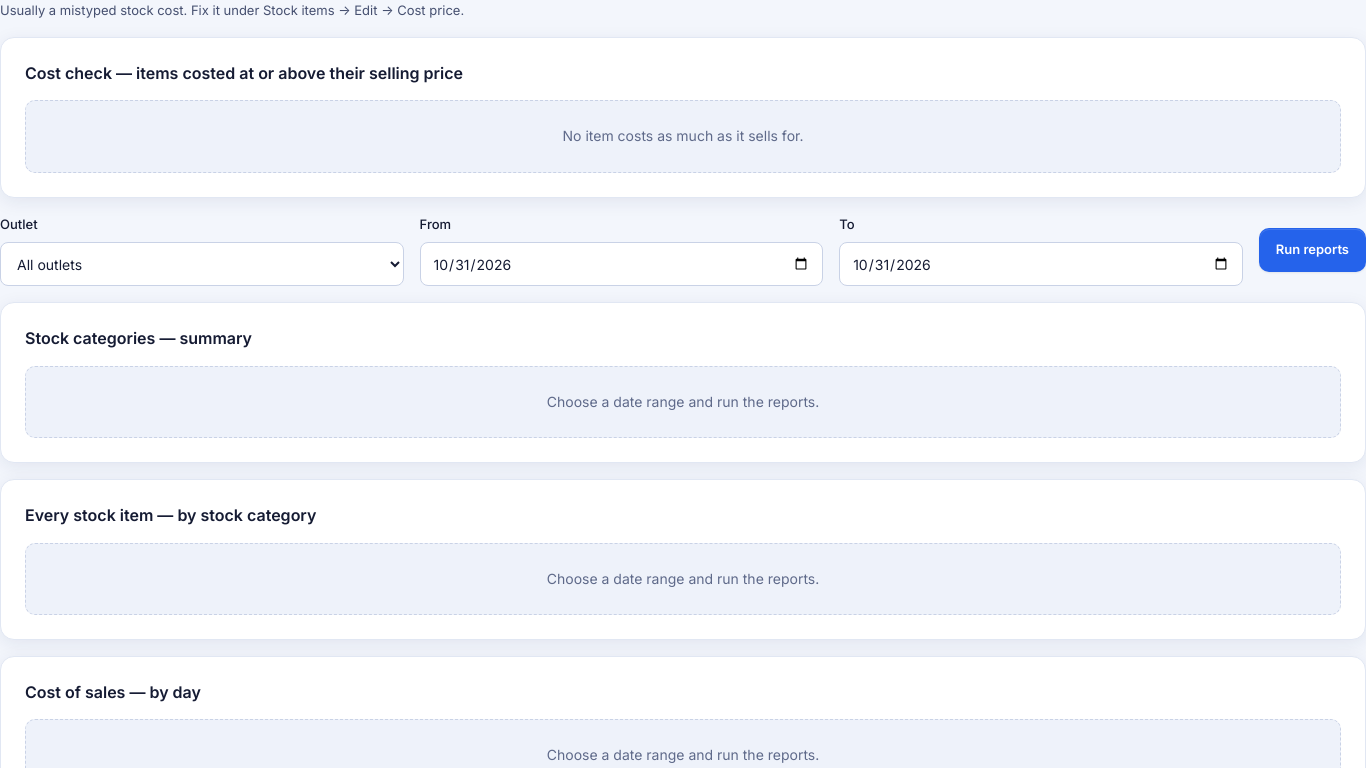
Scenario: <StockReportsTab> › bug fix: renders the active property's real currency, not a hardcoded NGN
The width and height of the screenshot is (1366, 768).
Step 1. Click the button "Run reports" → (1312, 250), box 1259,228 -> 1365,272
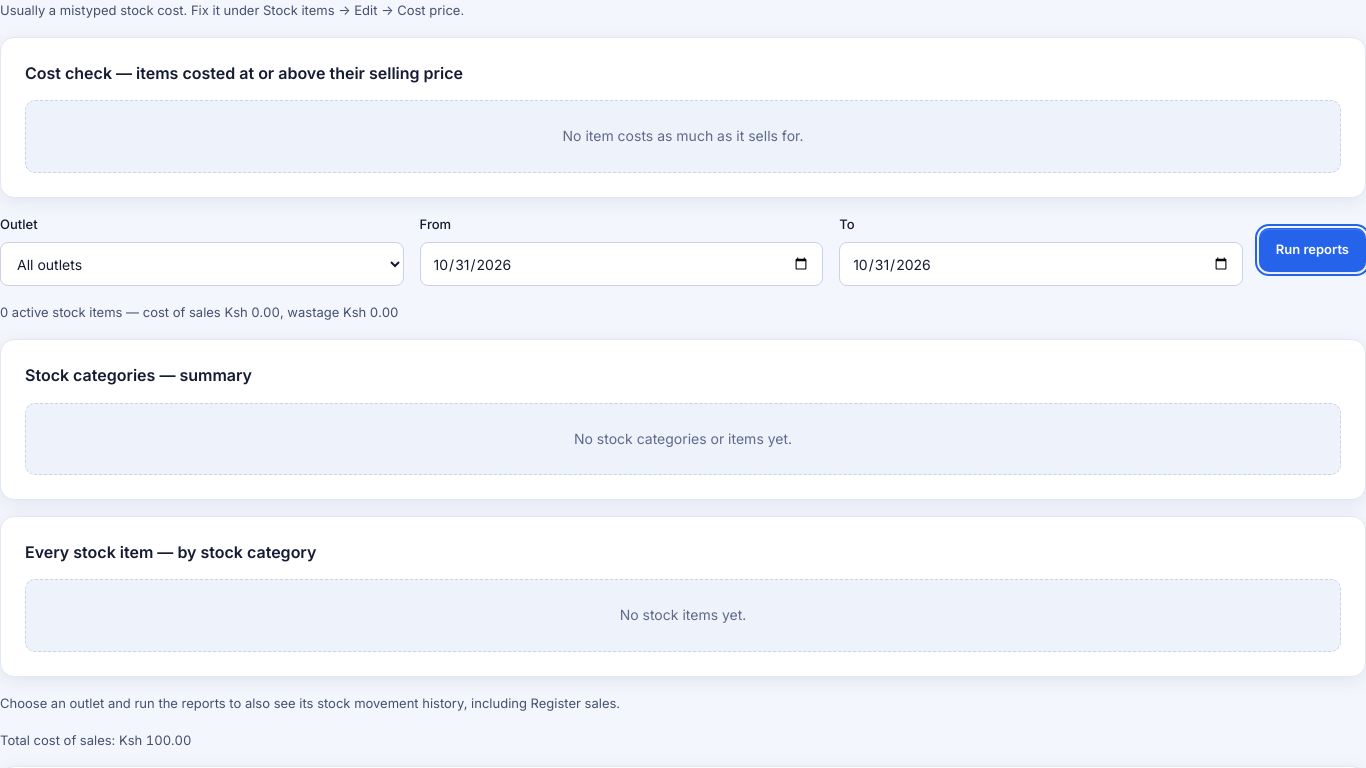
Check: the 1st text "Ksh 0.00" is shown, box 224,304 -> 280,320
